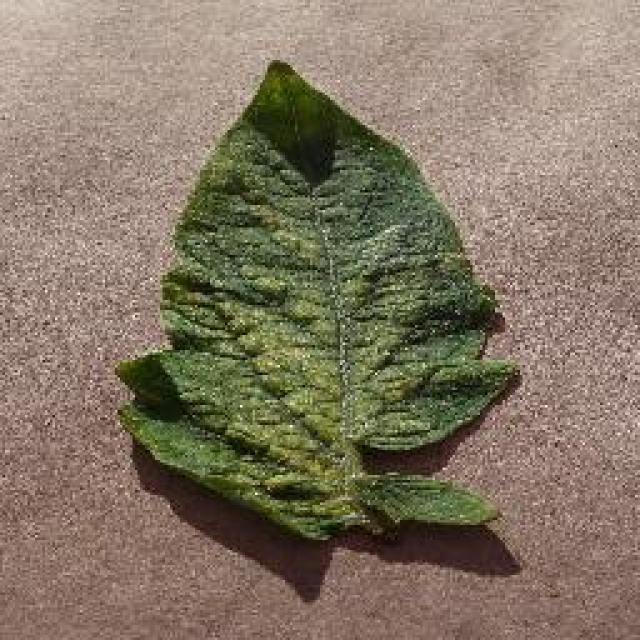Tomato spider mites leaf: (112, 59, 526, 544)
